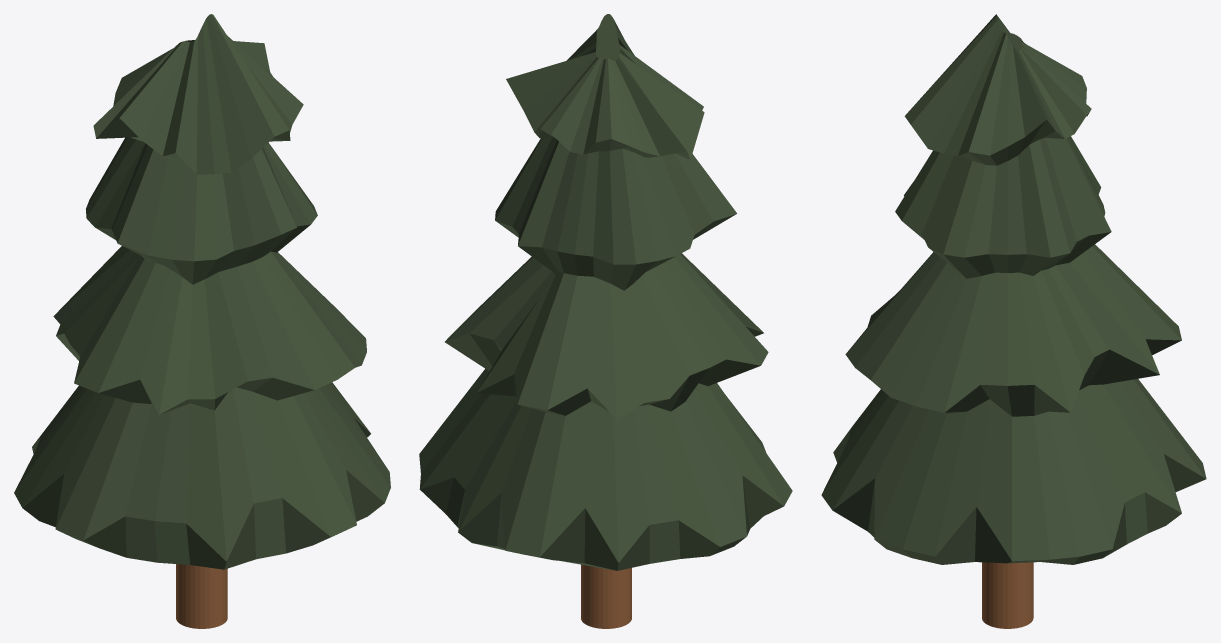
Rendered from Pine.fbx.
3 renders of one model, left to right at view 1: azimuth 30°, elevation 25°; view 2: azimuth 150°, elevation 25°; view 3: azimuth 270°, elevation 25°, orthographic.
Parts seen in each view (by area): view 1: Cone.089; view 2: Cone.089; view 3: Cone.089.
Part boxes in pixels (x1=…): Cone.089: x1=14, y1=14, x2=390, y2=628; Cone.089: x1=419, y1=14, x2=792, y2=628; Cone.089: x1=821, y1=14, x2=1206, y2=628.
Bounding box in the file's own units: 1015 × 1758 × 1015.
